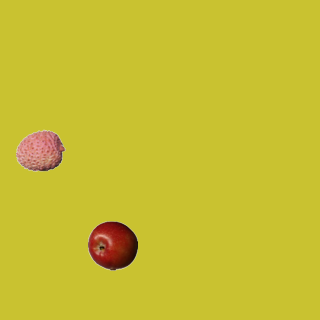Apple Braeburn: (87, 220, 137, 270)
Lychee: (15, 125, 65, 175)
